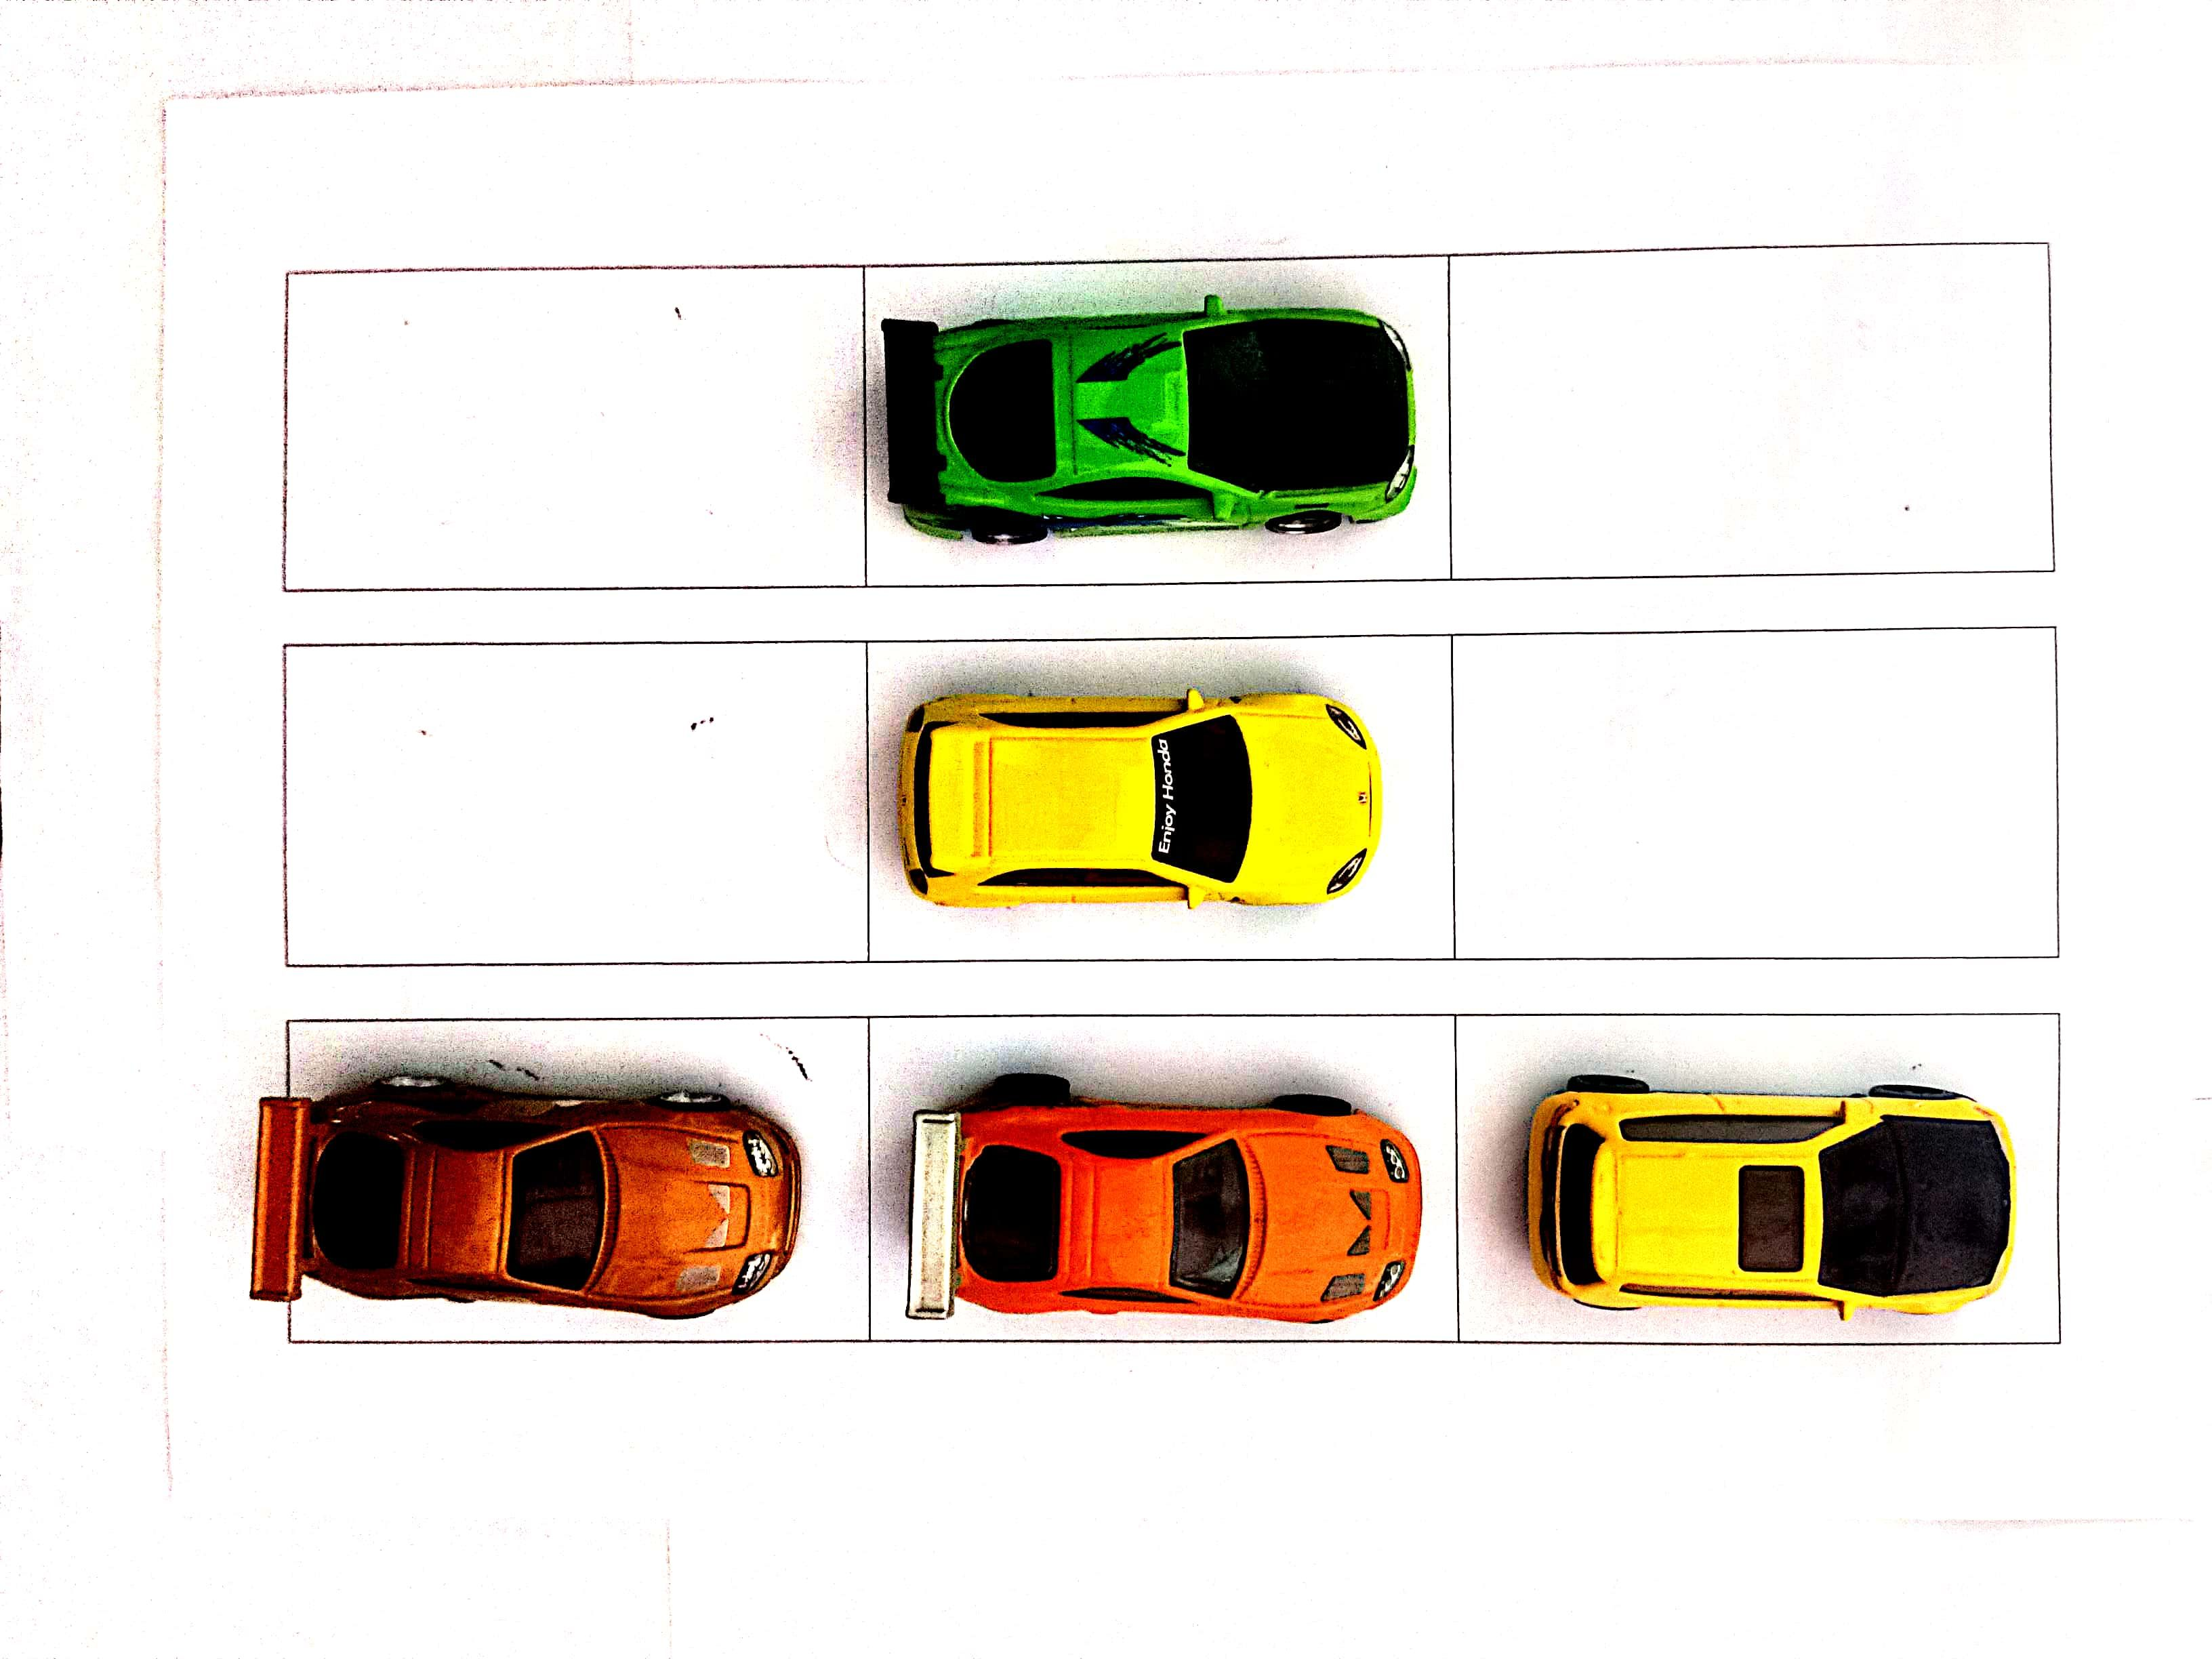Busy: (1454, 1014, 2059, 1337), (866, 263, 1449, 586), (286, 1018, 862, 1340), (866, 1023, 1446, 1340), (871, 645, 1446, 962)
Free: (1446, 240, 2047, 572), (1451, 633, 2054, 953), (287, 272, 869, 594), (291, 650, 866, 955)
